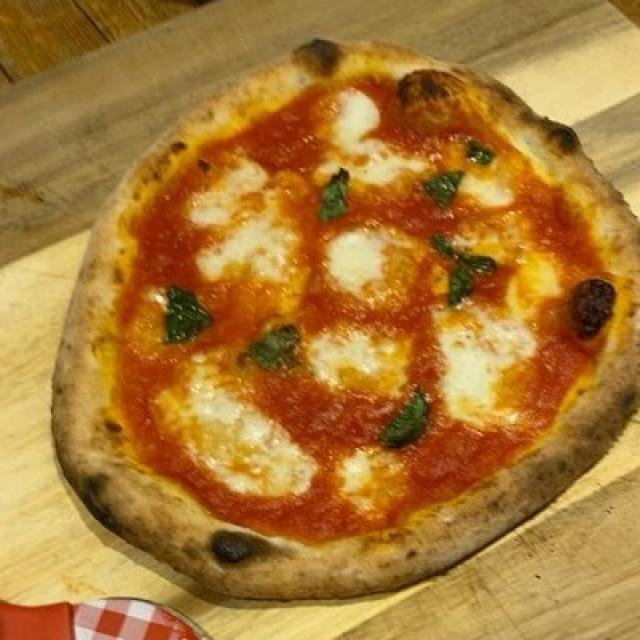pizza: (73, 55, 623, 582)
